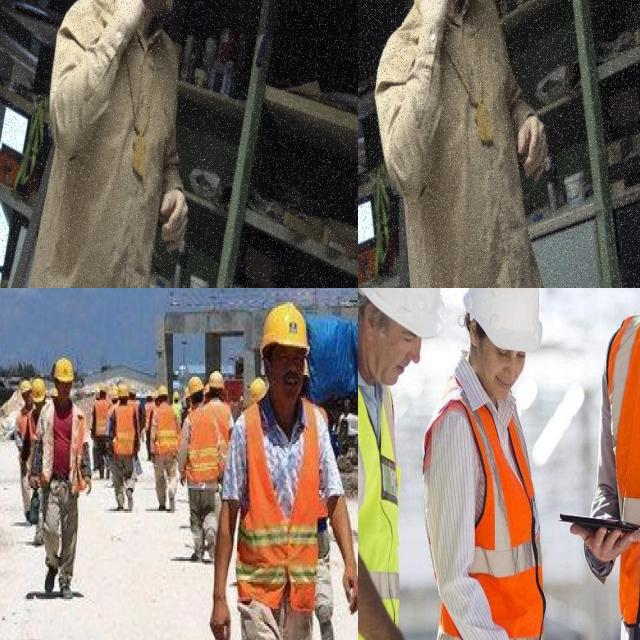face_nomask: (358, 293, 425, 394), (471, 325, 533, 396), (265, 350, 311, 410)
hand_noglove: (562, 504, 640, 579), (206, 579, 234, 640), (339, 563, 358, 630)
head_helmet: (456, 288, 554, 358), (358, 288, 446, 337), (253, 305, 311, 349), (179, 365, 204, 396), (52, 358, 74, 384), (248, 375, 266, 400), (154, 382, 172, 403), (27, 381, 44, 402), (208, 368, 224, 387), (20, 375, 30, 396), (96, 381, 112, 392), (106, 388, 116, 400), (118, 386, 127, 398), (127, 383, 135, 394)
person: (426, 288, 576, 640), (229, 303, 348, 640), (358, 288, 441, 640), (44, 362, 88, 592), (181, 379, 224, 547), (142, 383, 181, 507), (112, 381, 142, 509), (21, 375, 49, 496), (88, 369, 113, 475)
shoes: (40, 552, 60, 598), (57, 565, 77, 603)
vest: (424, 388, 557, 640), (227, 402, 334, 614), (358, 379, 412, 640), (604, 317, 640, 622), (182, 400, 222, 484), (109, 400, 141, 455), (148, 402, 178, 457), (94, 402, 110, 436)
